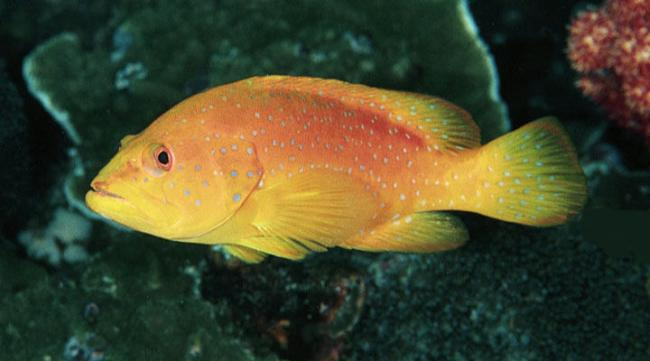fish: (86, 73, 590, 263)
